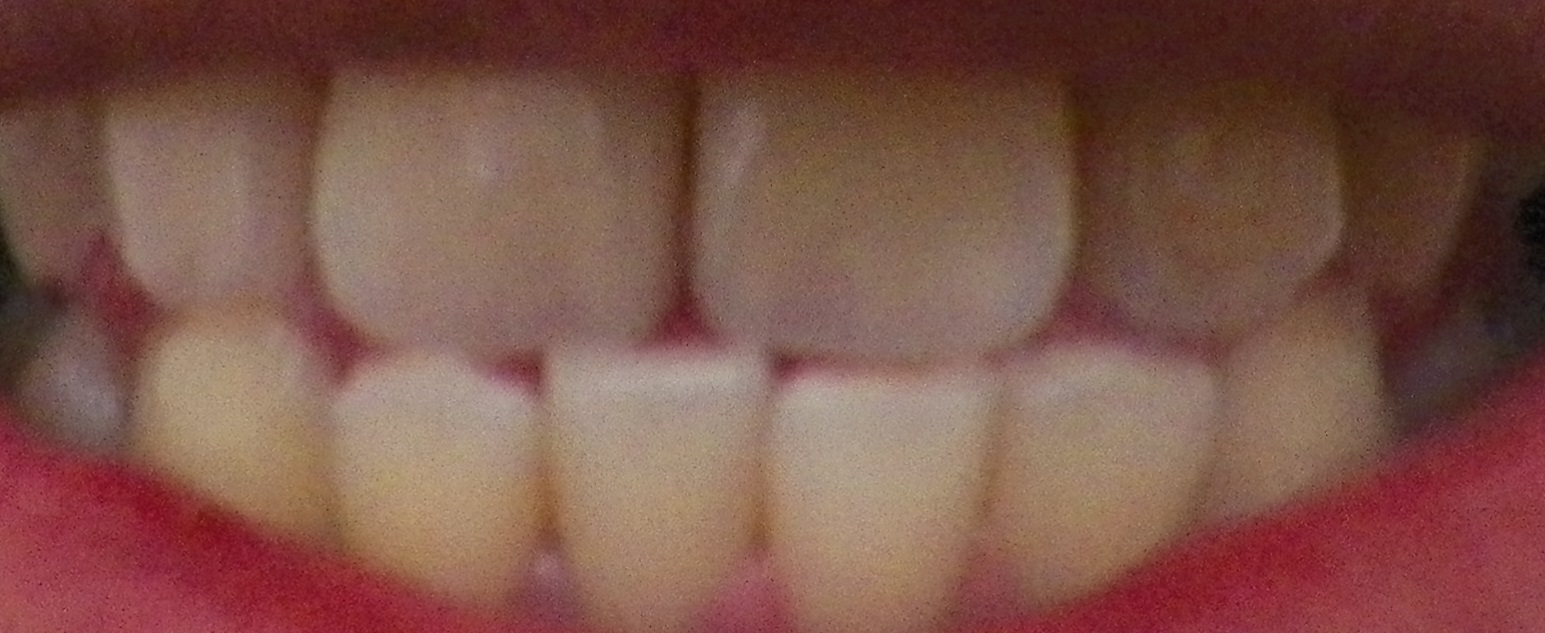boca: (30, 102, 1490, 620)
